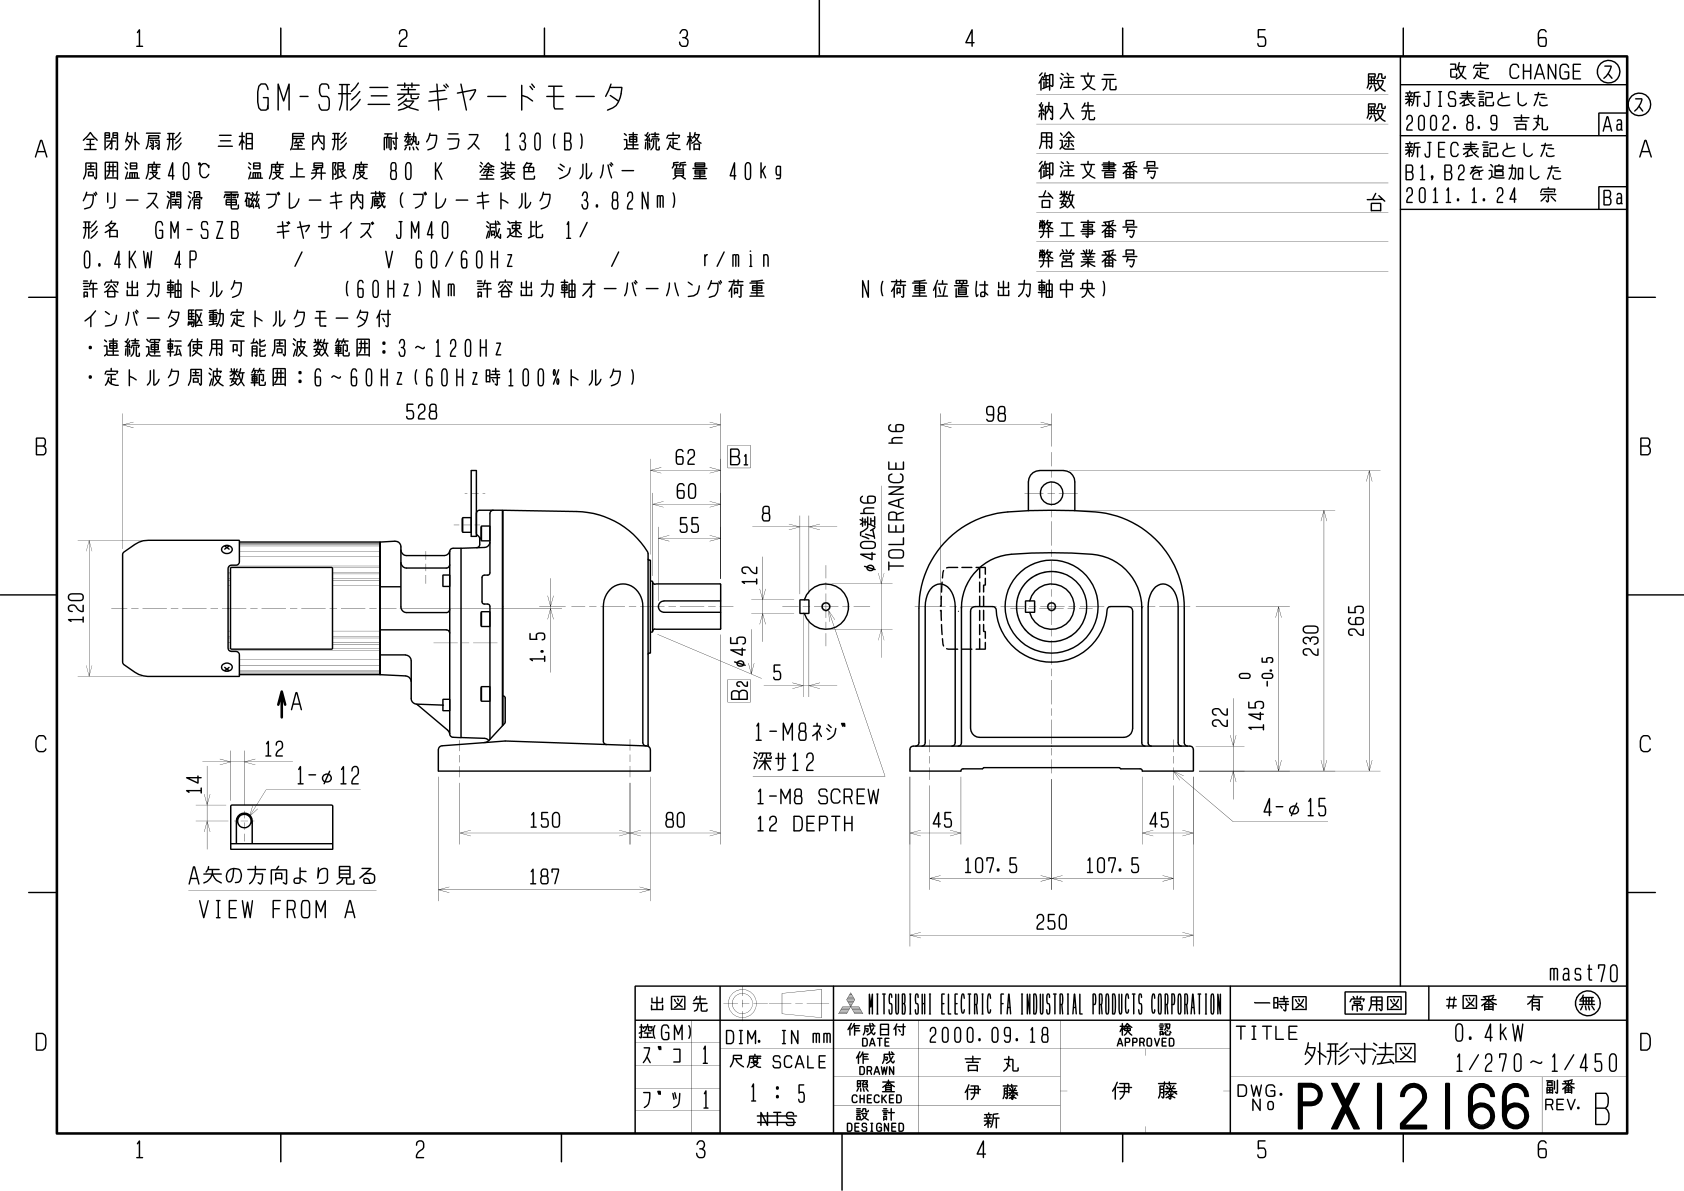GM_S_インバタ屋内＿三相_脚: (9, 13, 1674, 1179)
